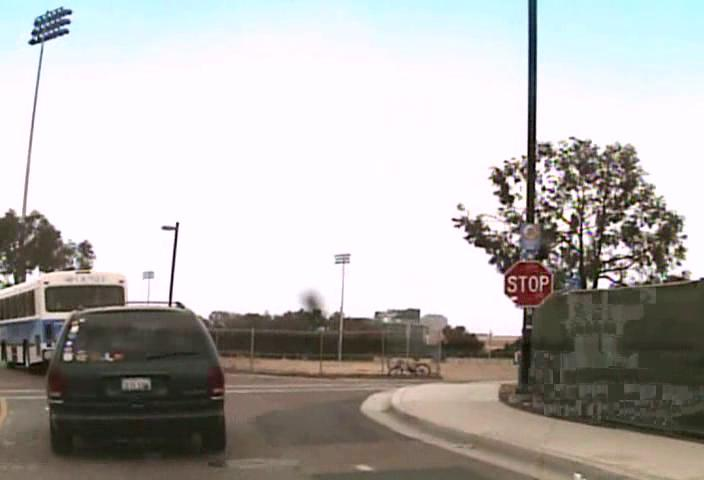stop: (503, 259, 553, 308)
